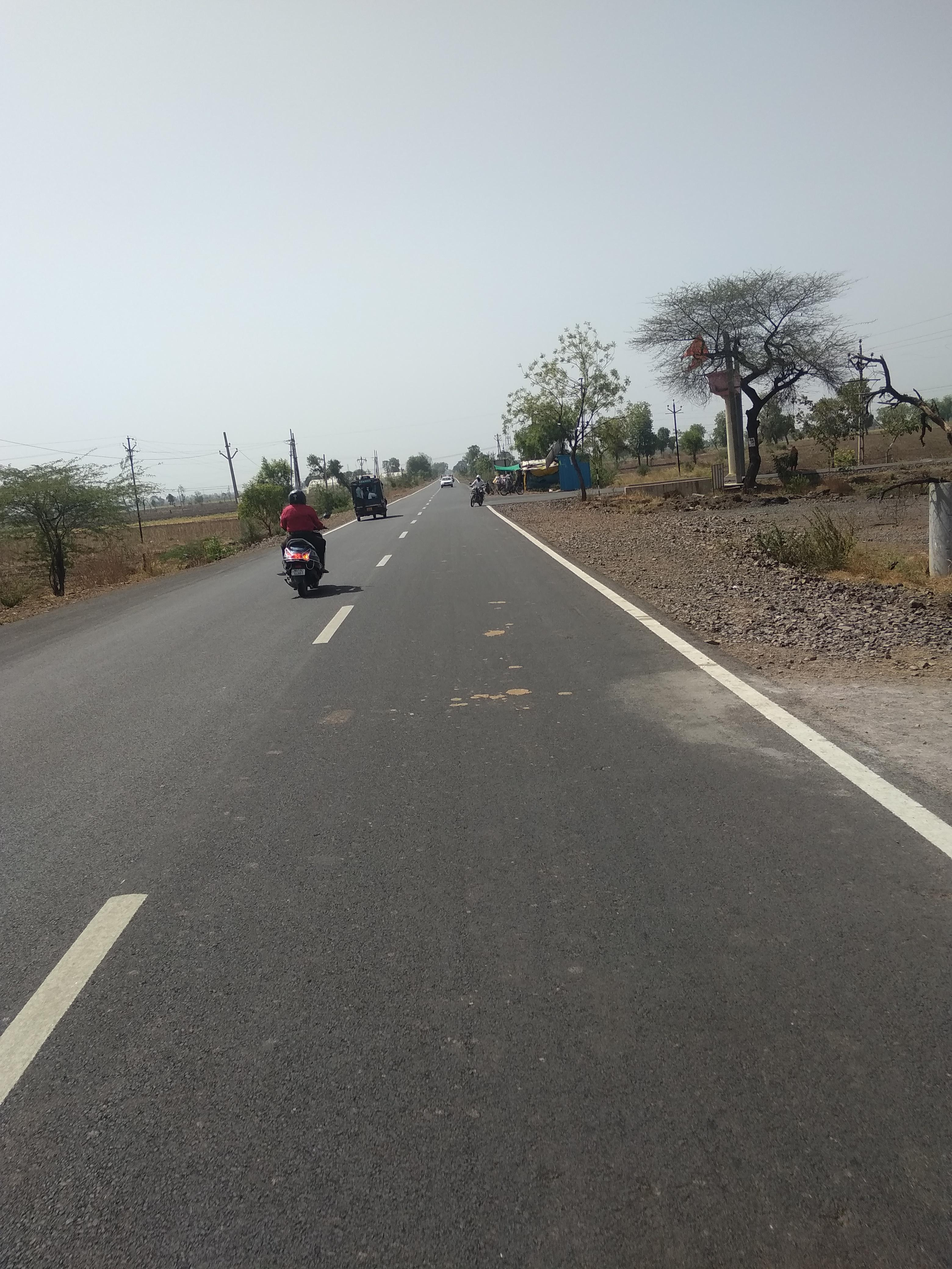Non-emergency: (343, 450, 401, 545)
